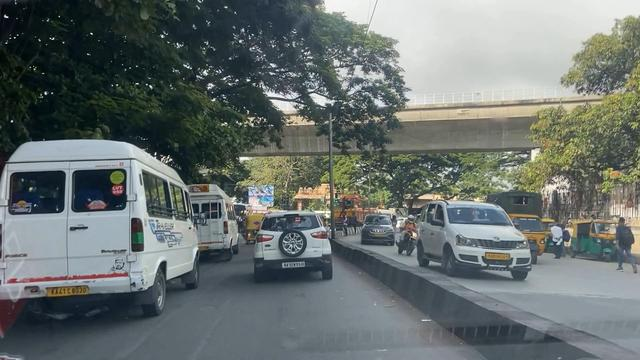HMV: (8, 142, 203, 317), (195, 182, 239, 264)
LMV: (258, 206, 334, 282)
